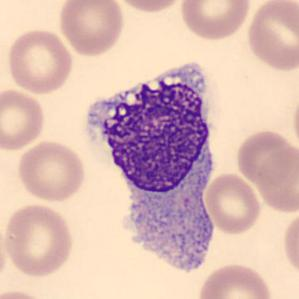Monocyte: (86, 51, 222, 273)
RBC: (1, 201, 76, 278), (5, 26, 75, 96), (15, 138, 87, 204), (55, 0, 126, 57), (244, 0, 298, 73), (203, 171, 263, 236), (234, 128, 297, 186), (255, 142, 298, 216), (177, 0, 252, 42), (195, 261, 276, 299), (0, 87, 47, 152), (281, 208, 299, 280), (112, 0, 187, 15), (0, 213, 8, 288), (290, 88, 299, 153), (0, 287, 53, 298)
